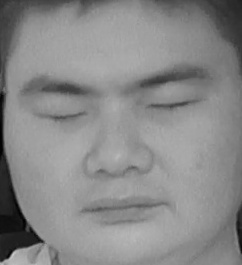blink: (36, 95, 88, 132), (148, 89, 195, 123)
mouth: (79, 185, 170, 228)
